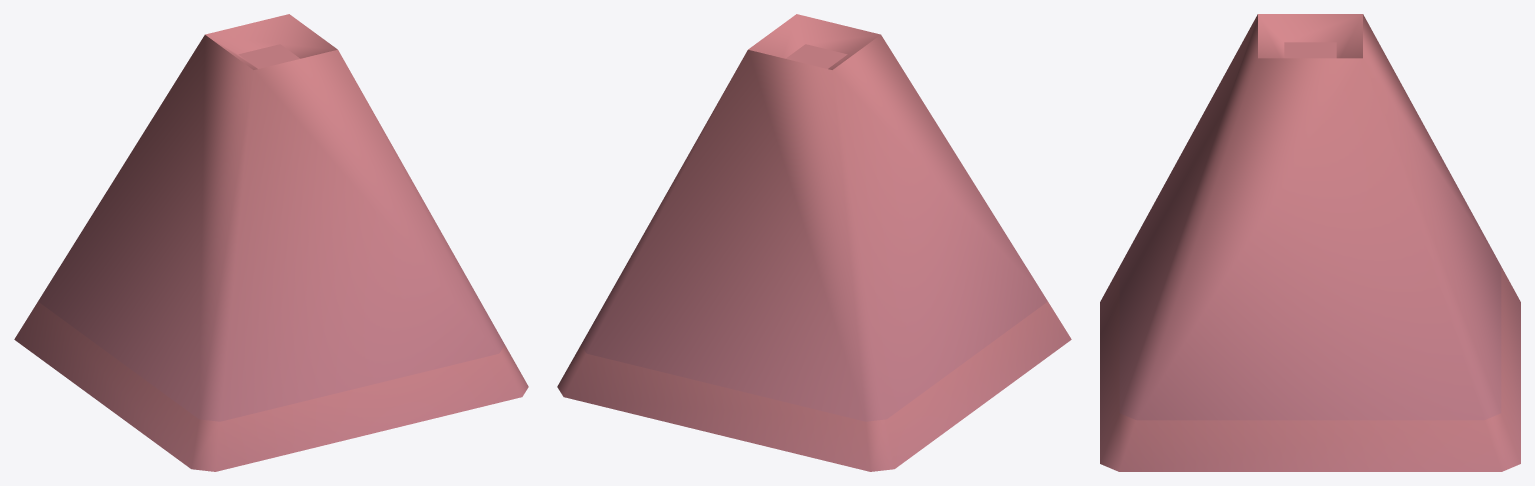
The model's file is roof-high-point.glb.
3 views of the same model, side by side, from view 1: azimuth 30°, elevation 25°; view 2: azimuth 150°, elevation 25°; view 3: azimuth 270°, elevation 25° (orthographic). The views are drawn at different scales.
Parts seen in each view (by area): view 1: roof-high-point; view 2: roof-high-point; view 3: roof-high-point.
Part boxes in pixels (x1,y1,x2,y2): roof-high-point: (14,14,528,471); roof-high-point: (557,14,1071,471); roof-high-point: (1100,14,1520,471).
Bounding box in the file's own units: 1.1 × 1 × 1.1.
